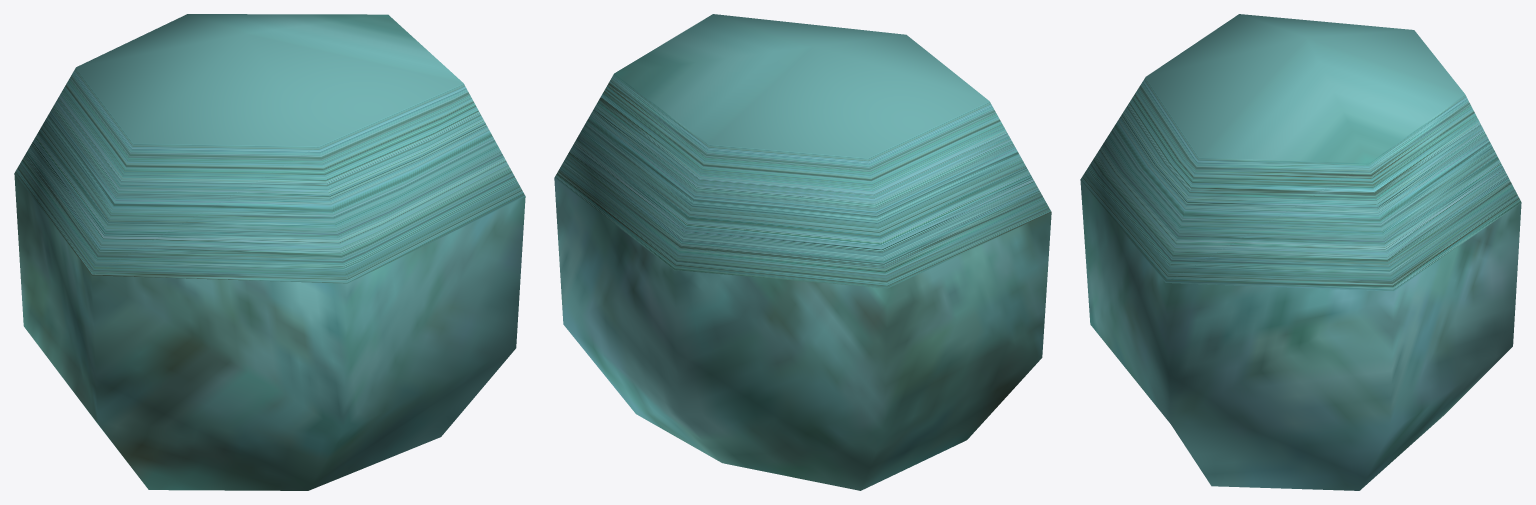
File: EKH_GROTTO_PS_GR_ROCK373635.fbx
3 views of the same model, side by side, from view 1: azimuth 30°, elevation 25°; view 2: azimuth 150°, elevation 25°; view 3: azimuth 270°, elevation 25° (orthographic). The views are drawn at different scales.
Visible parts, largest first — view 1: EKH_GROTTO_PS_GR_ROCK373635; view 2: EKH_GROTTO_PS_GR_ROCK373635; view 3: EKH_GROTTO_PS_GR_ROCK373635.
Boxes of the visible parts, x1,y1,x2,y2 form: EKH_GROTTO_PS_GR_ROCK373635: [14, 14, 525, 490]; EKH_GROTTO_PS_GR_ROCK373635: [554, 14, 1051, 490]; EKH_GROTTO_PS_GR_ROCK373635: [1080, 14, 1521, 490].
Bounding box in the file's own units: 17392 × 15760 × 16472.
1 material, 1 textured.
